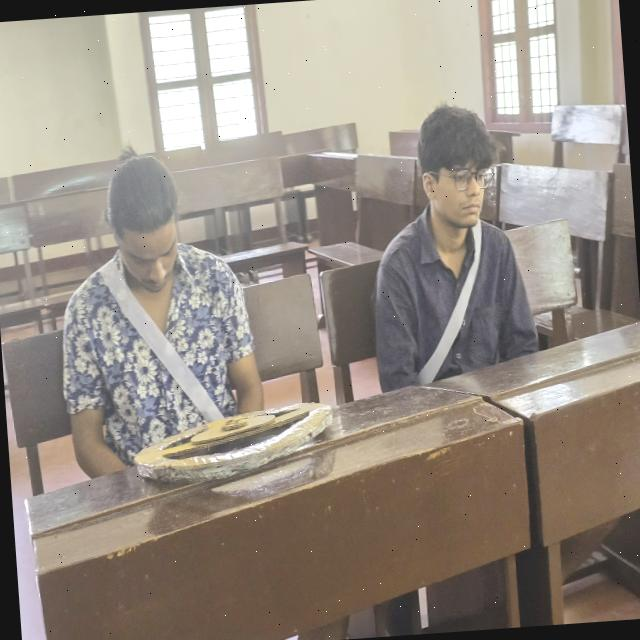seatbelt: (370, 221, 538, 378), (70, 274, 247, 422)
